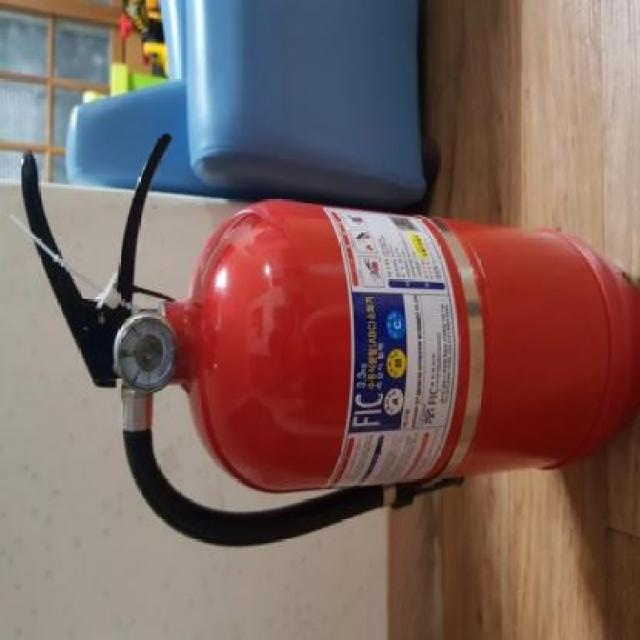fire extinguisher: (18, 132, 640, 546)
